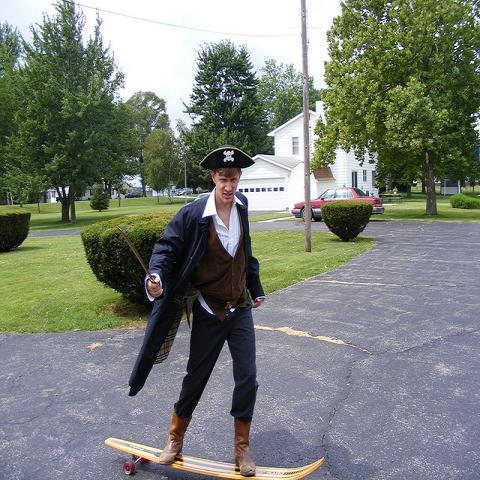car: (292, 188, 385, 222), (124, 194, 134, 198)
